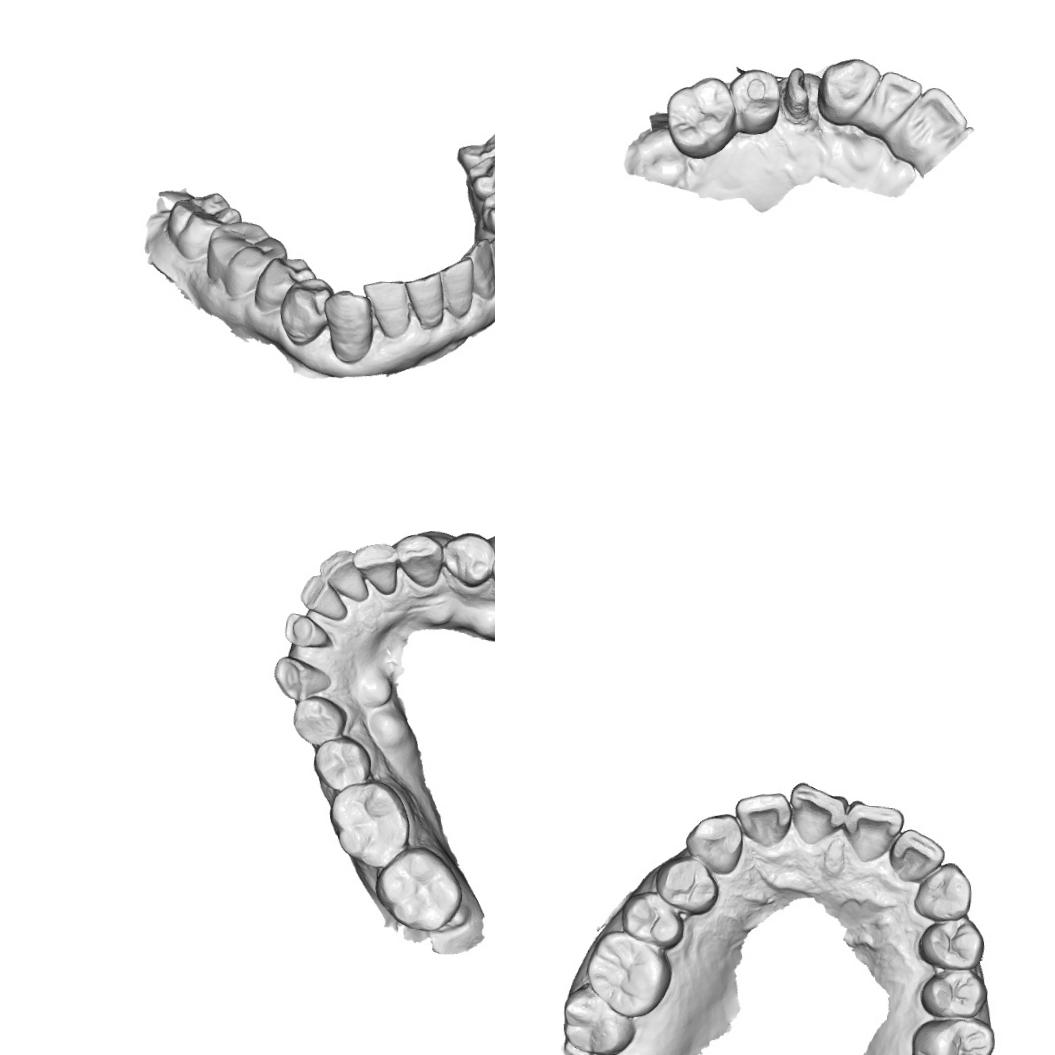canine: (815, 54, 882, 128), (320, 286, 376, 366), (683, 810, 745, 876), (912, 859, 974, 922), (390, 530, 446, 590), (270, 653, 334, 704)
crown: (778, 65, 814, 126)
incisor: (902, 83, 972, 152), (840, 798, 906, 866), (787, 780, 850, 843), (864, 67, 923, 132), (732, 788, 794, 848), (886, 827, 946, 887), (313, 545, 372, 603), (358, 277, 412, 340), (348, 540, 400, 596), (402, 268, 446, 330), (434, 253, 475, 319), (296, 572, 350, 622), (457, 235, 495, 303), (280, 610, 336, 652)
molar: (370, 843, 466, 934), (585, 929, 672, 1020), (326, 778, 413, 868), (204, 216, 290, 301), (660, 73, 740, 161), (164, 188, 242, 264), (560, 983, 641, 1055), (908, 1011, 996, 1055)
premolar: (618, 888, 693, 948), (276, 274, 336, 348), (250, 253, 318, 318), (652, 854, 721, 916), (916, 912, 986, 970), (725, 66, 781, 138), (306, 734, 374, 793), (917, 964, 988, 1020), (440, 528, 495, 591), (288, 694, 348, 747), (463, 151, 495, 202), (478, 184, 495, 239)
